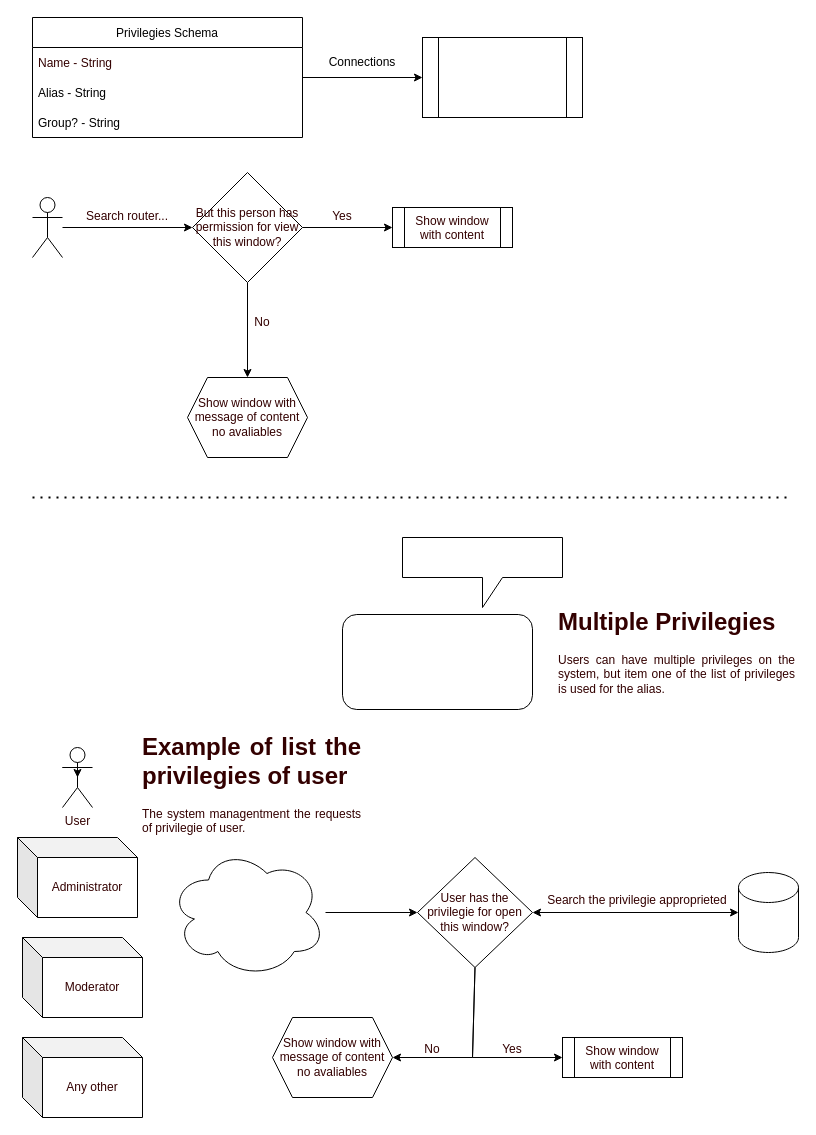
The diagram is 816 pixels wide and 1135 high, and some of its shapes have lost their labels. The shapes that lost their labels are listed below. From the top down, each one's centre as x and y in pixels, then its label:
(x=502, y=77): Routers Database Users Windows Tasks
(x=47, y=227): Anyone
(x=482, y=572): Get alias for the user privilege when show window
(x=437, y=662): Hello Mr. Santos (Administrator)
(x=247, y=912): Request for get specific window of system
(x=768, y=912): Database
